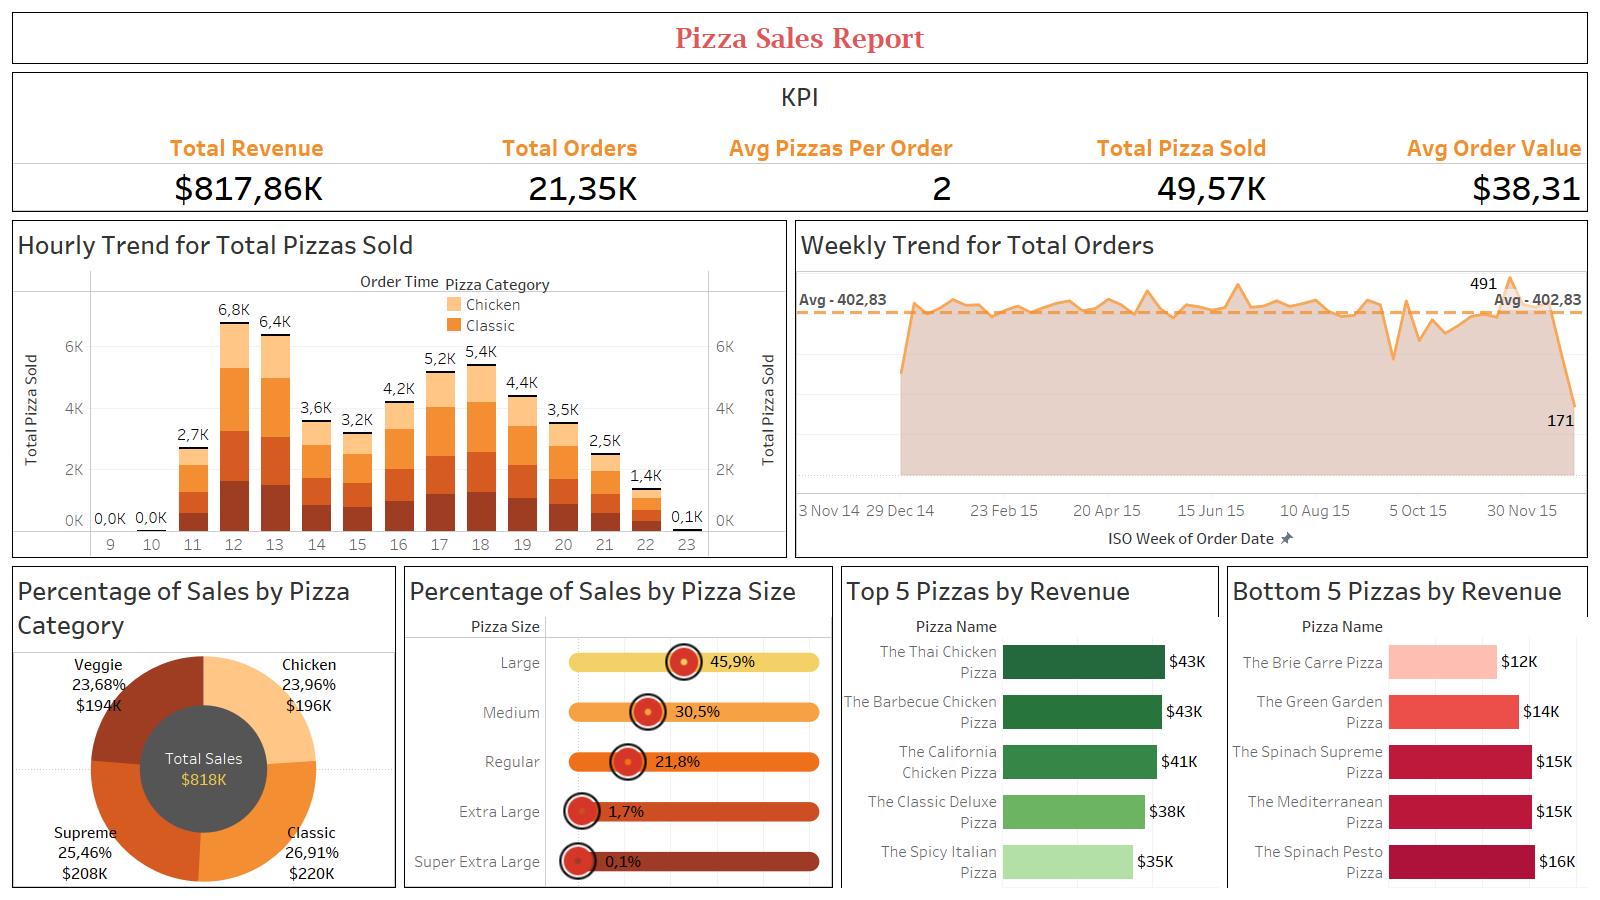

This screenshot's page, from the dashboard's own definition file:
{"tool":"tableau","page":{"name":"Dashboard 1","canvas":[1600,900],"ordinal":0},"visuals":[{"type":"text","box":[8,8,1584,60]},{"type":"worksheet","title":"KPI banner","mark":"Automatic","box":[8,68,1584,148]},{"type":"worksheet","title":"Hourly Trend for Total Pizzas Sold","mark":"Bar","rows":["Calculation_490610896727089155","Calculation_490610896727089155"],"cols":["order_time"],"box":[8,216,783.1,346]},{"type":"worksheet","title":"Weekly Trend for Total Orders","mark":"Area","rows":["Calculation_490610896726339585","Calculation_490610896726339585"],"cols":["order_date"],"box":[791.1,216,800.9,346]},{"type":"legend","title":"Hourly Trend for Total Pizzas Sold","param":"[federated.1upcjgr14xp3t31eukv231l35y97].[none:pizza_category:nk]","box":[444,272,192,59]},{"type":"worksheet","title":"Percentage of Sales by Pizza Category","mark":"Pie","rows":["Calculation_490610896758341642","Calculation_490610896758382604"],"box":[8,562,391.5,330]},{"type":"worksheet","title":"Percentage of Sales by Pizza Size","mark":"Line","rows":["pizza_size"],"box":[399.5,562,437.2,330]},{"type":"worksheet","title":"Top 5 Pizzas by Revenue","mark":"Bar","rows":["pizza_name"],"cols":["Calculation_490610896726069248"],"box":[836.7,562,386.3,330]},{"type":"worksheet","title":"Bottom 5 Pizzas by Revenue","mark":"Bar","rows":["pizza_name"],"cols":["Calculation_490610896726069248"],"box":[1223,562,369,330]}]}

Visuals, with their boxes in screenshot pixels (x1, y1, x2, y2), scaled from the page's 1600x900 canvas onto the 1600x900 screenshot:
text: (x1=8, y1=8, x2=1592, y2=68)
"KPI banner" worksheet: (x1=8, y1=68, x2=1592, y2=216)
"Hourly Trend for Total Pizzas Sold" worksheet (Bar marks): (x1=8, y1=216, x2=791, y2=562)
"Weekly Trend for Total Orders" worksheet (Area marks): (x1=791, y1=216, x2=1592, y2=562)
"Hourly Trend for Total Pizzas Sold" legend: (x1=444, y1=272, x2=636, y2=331)
"Percentage of Sales by Pizza Category" worksheet (Pie marks): (x1=8, y1=562, x2=400, y2=892)
"Percentage of Sales by Pizza Size" worksheet (Line marks): (x1=400, y1=562, x2=837, y2=892)
"Top 5 Pizzas by Revenue" worksheet (Bar marks): (x1=837, y1=562, x2=1223, y2=892)
"Bottom 5 Pizzas by Revenue" worksheet (Bar marks): (x1=1223, y1=562, x2=1592, y2=892)
